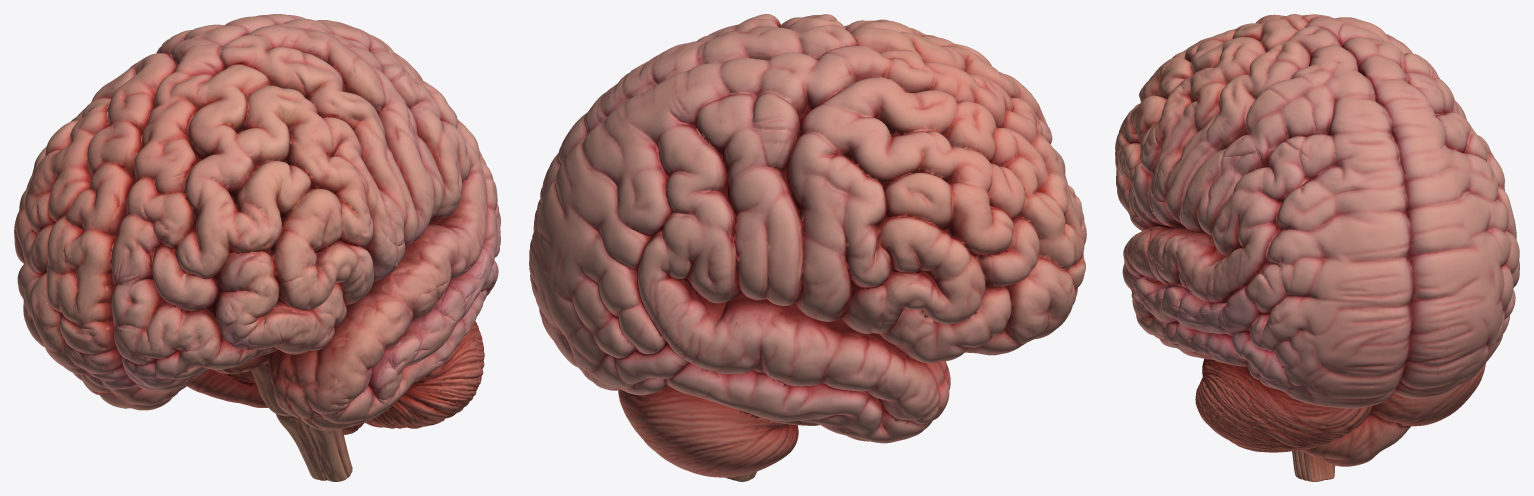
The model's file is brain.glb.
3 renders of one model, left to right at view 1: azimuth 30°, elevation 25°; view 2: azimuth 150°, elevation 25°; view 3: azimuth 270°, elevation 25°, orthographic. The views are drawn at different scales.
Visible parts, largest first — view 1: tripo_node_938185c2-e59c-4f52-8e5e-bb526af0889b; view 2: tripo_node_938185c2-e59c-4f52-8e5e-bb526af0889b; view 3: tripo_node_938185c2-e59c-4f52-8e5e-bb526af0889b.
Boxes of the visible parts, <box> form: tripo_node_938185c2-e59c-4f52-8e5e-bb526af0889b: <box>14,14,500,481</box>; tripo_node_938185c2-e59c-4f52-8e5e-bb526af0889b: <box>529,14,1086,481</box>; tripo_node_938185c2-e59c-4f52-8e5e-bb526af0889b: <box>1115,14,1519,481</box>.
Size of the model in its own units: 0.9804 by 0.9007 by 0.8078.
Materials: 1 (1 with a texture image).
